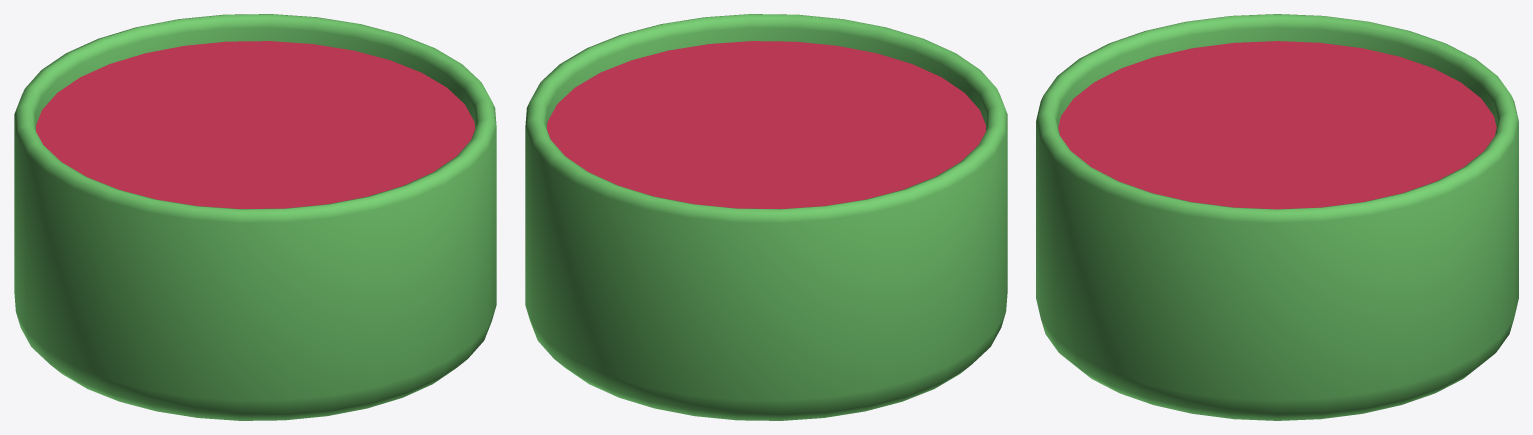
File: Manometr_2_UV 1.fbx
The picture shows the model from 3 angles, left to right: view 1: azimuth 30°, elevation 25°; view 2: azimuth 150°, elevation 25°; view 3: azimuth 270°, elevation 25°; orthographic projection.
Parts seen in each view (by area): view 1: Manometr_2_body, Manometr_2_glass; view 2: Manometr_2_body, Manometr_2_glass; view 3: Manometr_2_body, Manometr_2_glass.
Part boxes in pixels (box(x1,y1,x2,y2)): Manometr_2_body: box(14, 14, 496, 420); Manometr_2_glass: box(35, 41, 474, 208); Manometr_2_body: box(525, 14, 1007, 420); Manometr_2_glass: box(547, 41, 986, 208); Manometr_2_body: box(1036, 14, 1518, 420); Manometr_2_glass: box(1058, 41, 1496, 209).
Size of the model in its own units: 10 by 5 by 10.
